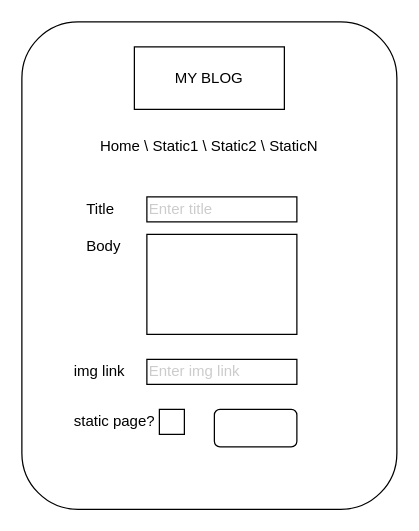
Image size: 419x531. Some labels were removed from this diagram. The shapes that lost their labels are listed below. From the top down, each one's box as (x1, y1, x2, y2) in pixels, then its label:
(146, 233, 297, 334): Body text
(213, 408, 297, 447): submit
